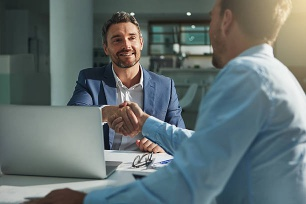male: (100, 14, 146, 72)
